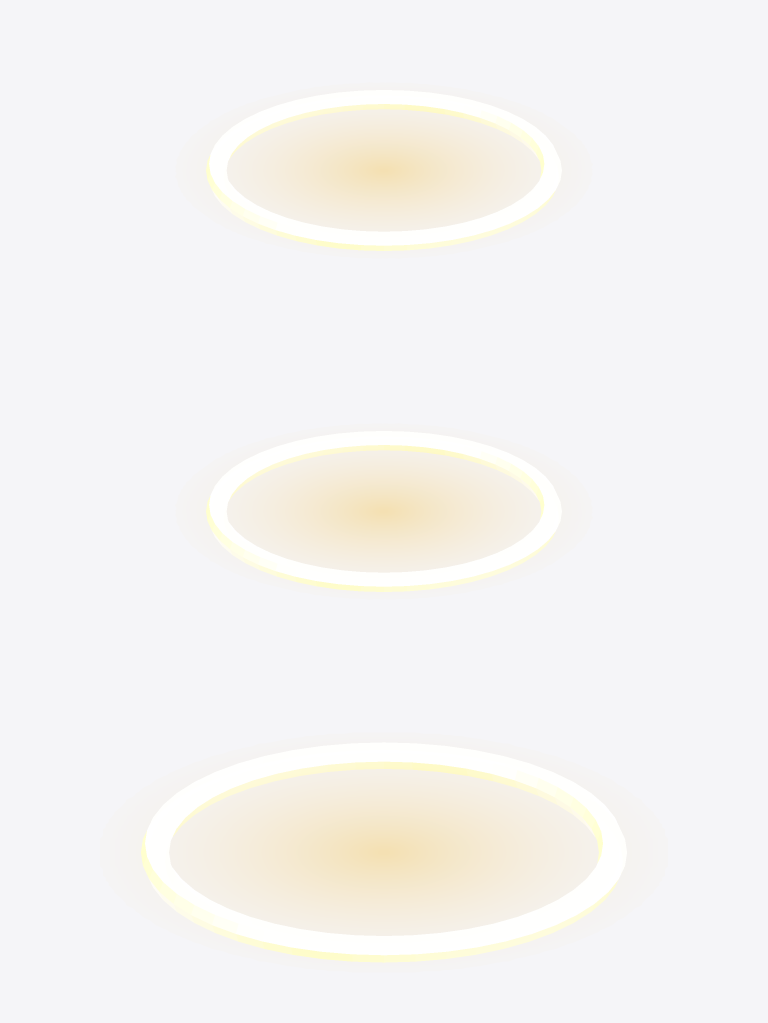
File: fx-bless.glb
3 views of the same model, one above another, from view 1: azimuth 30°, elevation 25°; view 2: azimuth 150°, elevation 25°; view 3: azimuth 270°, elevation 25° (orthographic). The views are drawn at different scales.
Parts seen in each view (by area): view 1: Bless_glow, Bless_ring; view 2: Bless_glow, Bless_ring; view 3: Bless_glow, Bless_ring.
Boxes of the visible parts, x1,y1,x2,y2 form: Bless_glow: (250,114,517,226); Bless_ring: (206,90,561,250); Bless_glow: (250,455,517,567); Bless_ring: (206,431,561,591); Bless_glow: (200,775,567,929); Bless_ring: (141,742,626,962).
Size of the model in its own units: 0.42 by 0.016 by 0.42.
2 materials, 1 textured.
